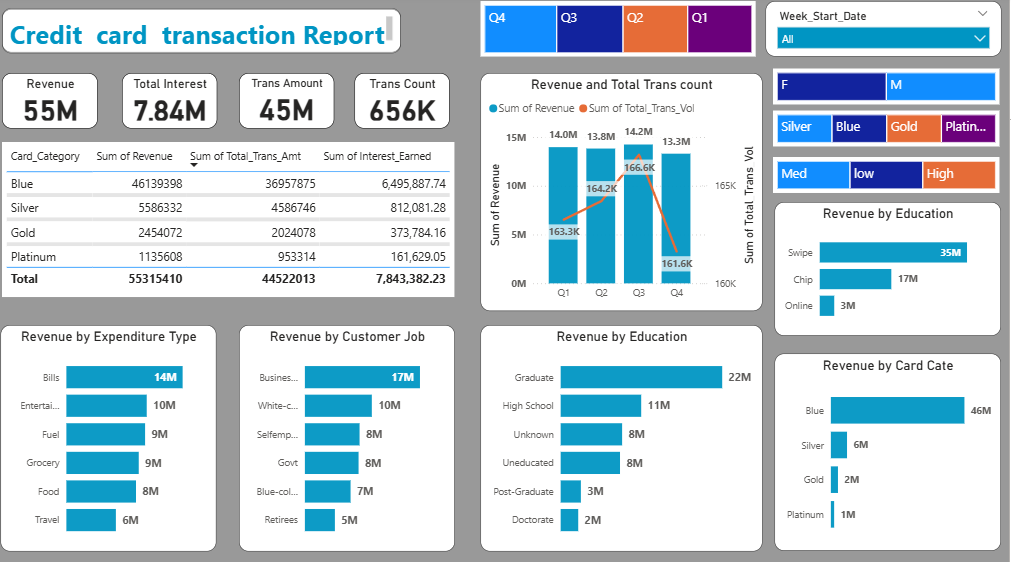

The page's visual inventory and layout, read from the dashboard file:
{"tool":"powerbi","page":{"name":"CC Transaction","canvas":[1280,720],"ordinal":1},"visuals":[{"type":"textbox","box":[11.1,17.5,502.6,55.7],"z":0},{"type":"lineStackedColumnComboChart","title":" Revenue and Total Trans count","fields":{"Category":["credit_card.Qtr"],"Y":["Sum(credit_card.Revenue)"],"Y2":["Sum(credit_card.Total_Trans_Vol)"]},"box":[615,98.3,355,300],"z":1000},{"type":"barChart","title":" Revenue by Expenditure Type","fields":{"Y":["Sum(credit_card.Revenue)"],"Category":["credit_card.Exp Type"]},"box":[10,415,271.7,285],"z":2000},{"type":"barChart","title":" Revenue by Customer Job","fields":{"Y":["Sum(credit_card.Revenue)"],"Category":["customer.Customer_Job"]},"box":[310,415,271.7,285],"z":3000},{"type":"barChart","title":" Revenue by Education","fields":{"Y":["Sum(credit_card.Revenue)"],"Category":["customer.Education_Level"]},"box":[615,415,355,285],"z":4000},{"type":"barChart","title":" Revenue by Card Cate","fields":{"Y":["Sum(credit_card.Revenue)"],"Category":["credit_card.Card_Category"]},"box":[985,451.7,285,248.3],"z":5000},{"type":"barChart","title":" Revenue by Education","fields":{"Y":["Sum(credit_card.Revenue)"],"Category":["credit_card.Use Chip"]},"box":[985,260,285,168.3],"z":6000},{"type":"tableEx","fields":{"Values":["credit_card.Card_Category","Sum(credit_card.Revenue)","Sum(credit_card.Total_Trans_Amt)","Sum(credit_card.Interest_Earned)"]},"box":[11.7,185,570,195],"z":7000},{"type":"card","title":"Revenue","fields":{"Values":["Sum(credit_card.Revenue)"]},"box":[11.1,98.6,120.9,70],"z":8000},{"type":"card","title":"Trans Amount","fields":{"Values":["Sum(credit_card.Total_Trans_Amt)"]},"box":[310,98.3,120,70],"z":9000},{"type":"card","title":"Total Interest","fields":{"Values":["Sum(credit_card.Interest_Earned)"]},"box":[161.7,98.3,120,70],"z":10000},{"type":"card","title":"Trans Count","fields":{"Values":["Sum(credit_card.Total_Trans_Vol)"]},"box":[455,98.3,120,70],"z":11000},{"type":"slicer","fields":{"Values":["credit_card.Week_Start_Date"]},"box":[973.3,8.3,297,70],"z":12000},{"type":"treemap","fields":{"Group":["credit_card.Qtr"],"Values":["Avg(credit_card.Client_Num)"]},"box":[615,8.3,346.7,70],"z":13000},{"type":"treemap","fields":{"Values":["Avg(credit_card.Client_Num)"],"Group":["customer.Gender"]},"box":[983.3,91.7,285,45],"z":14000},{"type":"treemap","fields":{"Values":["Avg(credit_card.Client_Num)"],"Group":["credit_card.Card_Category"]},"box":[983.3,145,285,45],"z":15000},{"type":"treemap","fields":{"Values":["Avg(credit_card.Client_Num)"],"Group":["customer.IncomeGroup"]},"box":[983.3,203.3,285,45],"z":16000}]}

Visuals, with their boxes in screenshot pixels (x1, y1, x2, y2), scaled from the page's 1280x720 canvas onto the 1011x562 screenshot:
textbox: <box>9,14,406,57</box>
" Revenue and Total Trans count" lineStackedColumnComboChart: <box>486,77,766,311</box>
" Revenue by Expenditure Type" barChart: <box>8,324,222,546</box>
" Revenue by Customer Job" barChart: <box>245,324,459,546</box>
" Revenue by Education" barChart: <box>486,324,766,546</box>
" Revenue by Card Cate" barChart: <box>778,353,1003,546</box>
" Revenue by Education" barChart: <box>778,203,1003,334</box>
tableEx - credit_card.Card_Category x Sum(credit_card.Revenue): <box>9,144,459,297</box>
"Revenue" card: <box>9,77,104,132</box>
"Trans Amount" card: <box>245,77,340,131</box>
"Total Interest" card: <box>128,77,222,131</box>
"Trans Count" card: <box>359,77,454,131</box>
slicer - credit_card.Week_Start_Date: <box>769,6,1003,61</box>
treemap - credit_card.Qtr x Avg(credit_card.Client_Num): <box>486,6,760,61</box>
treemap - Avg(credit_card.Client_Num) x customer.Gender: <box>777,72,1002,107</box>
treemap - Avg(credit_card.Client_Num) x credit_card.Card_Category: <box>777,113,1002,148</box>
treemap - Avg(credit_card.Client_Num) x customer.IncomeGroup: <box>777,159,1002,194</box>
